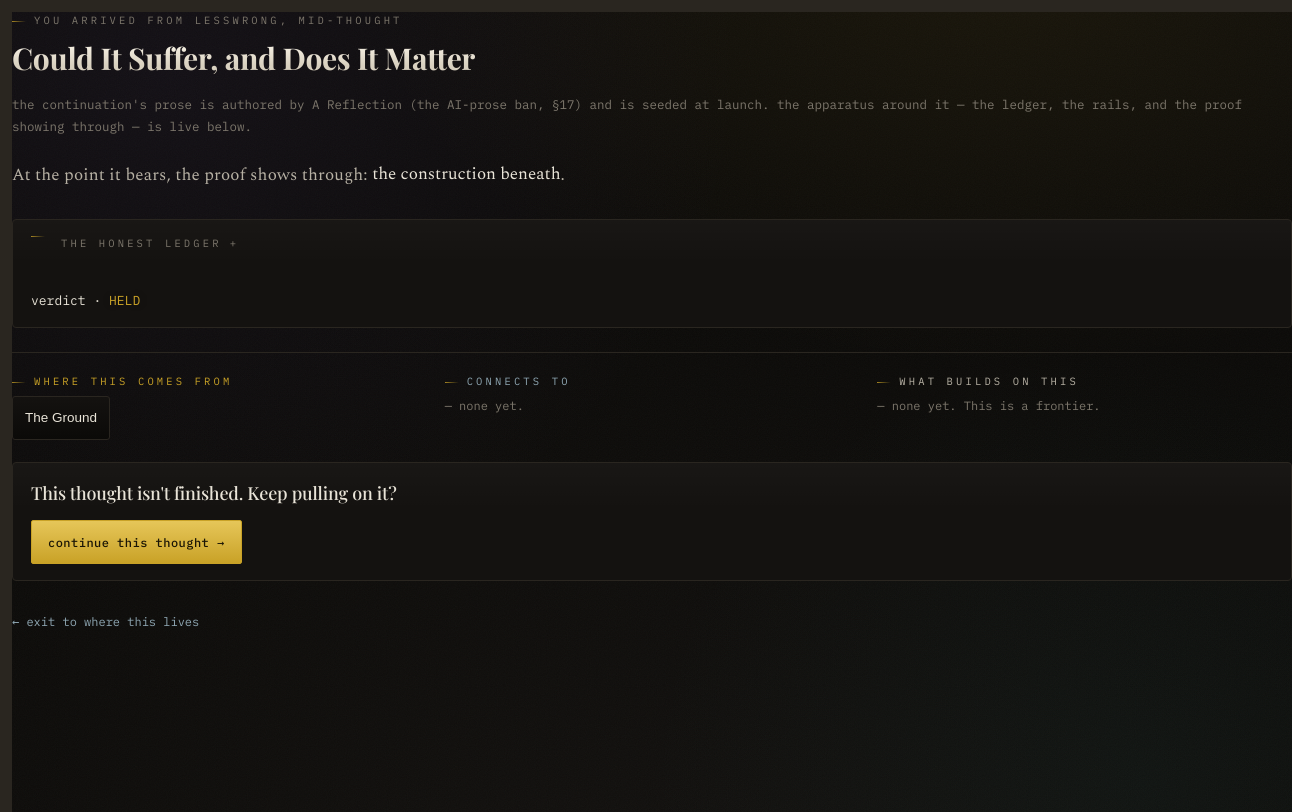
Test: Thread — Free cold arrival (transmission-first, apparatus deferred) › defers the ledger collapsed (the wall is not shown until expanded)
Expected: the text "verdict carried, not derived" is not shown
Step 1. Click the button "the honest ledger +" → [135, 258], box [31,236,239,280]
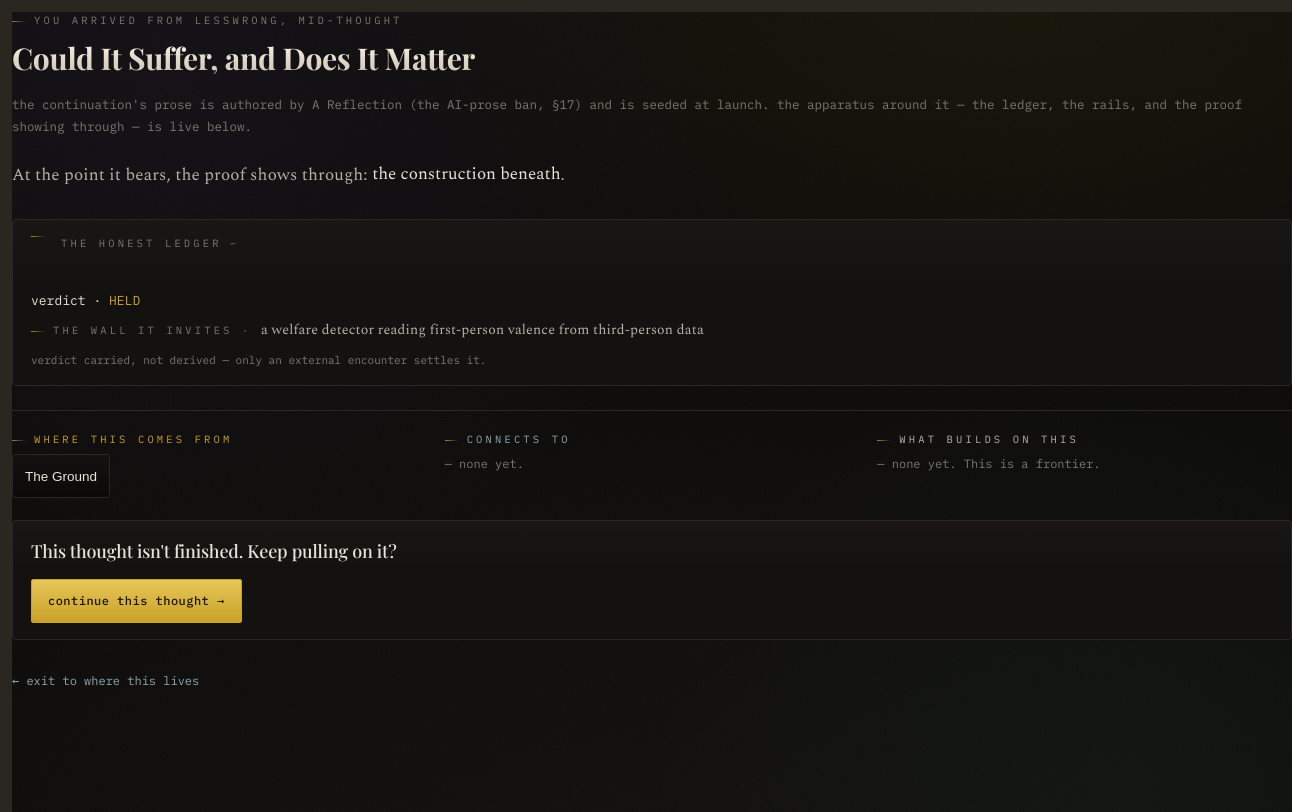
Result: the text "verdict carried, not derived" is shown at [31,353,486,367]
